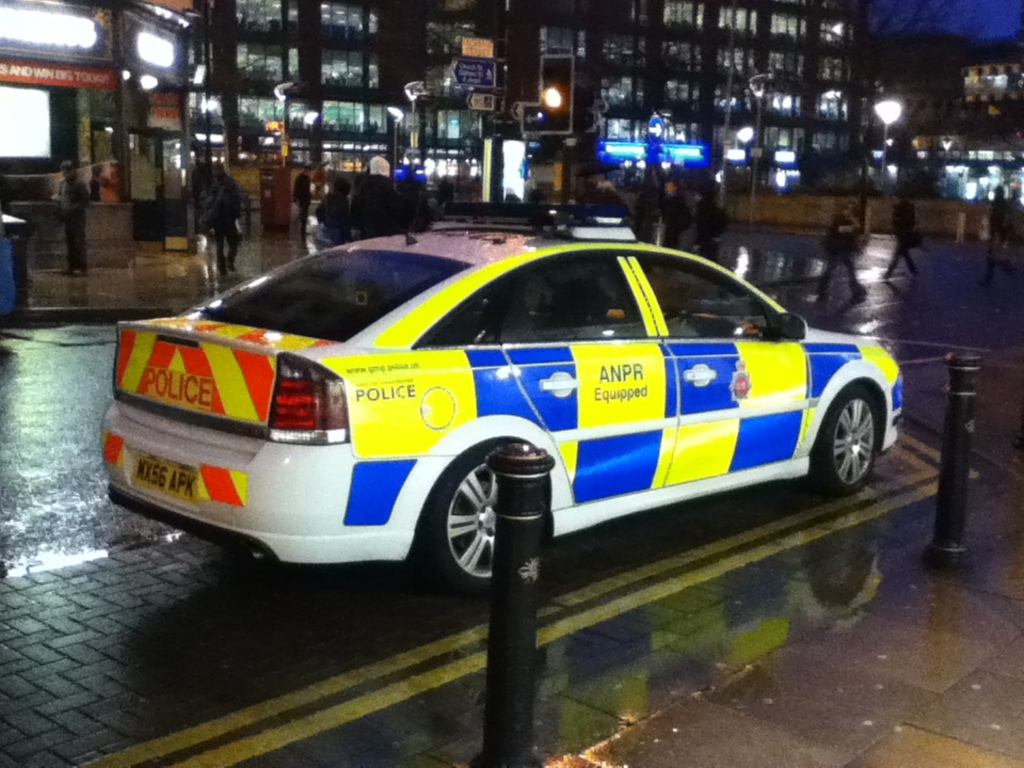Car: (101, 199, 904, 596)
